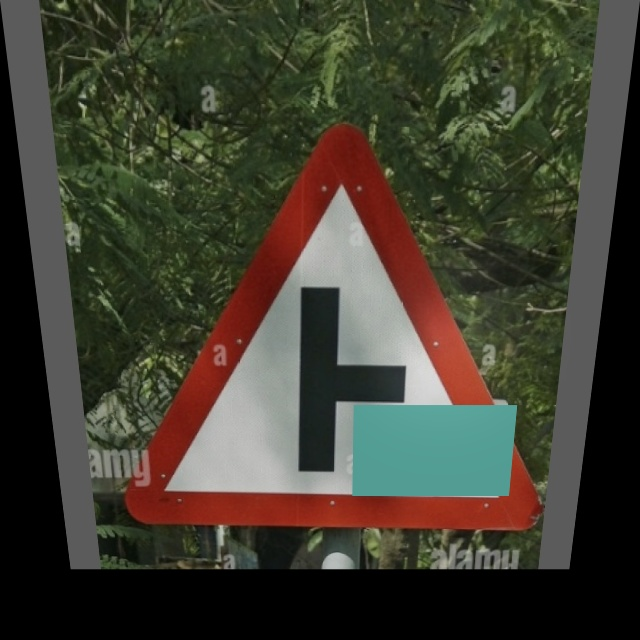Side_Road_Right: (113, 108, 568, 526)
